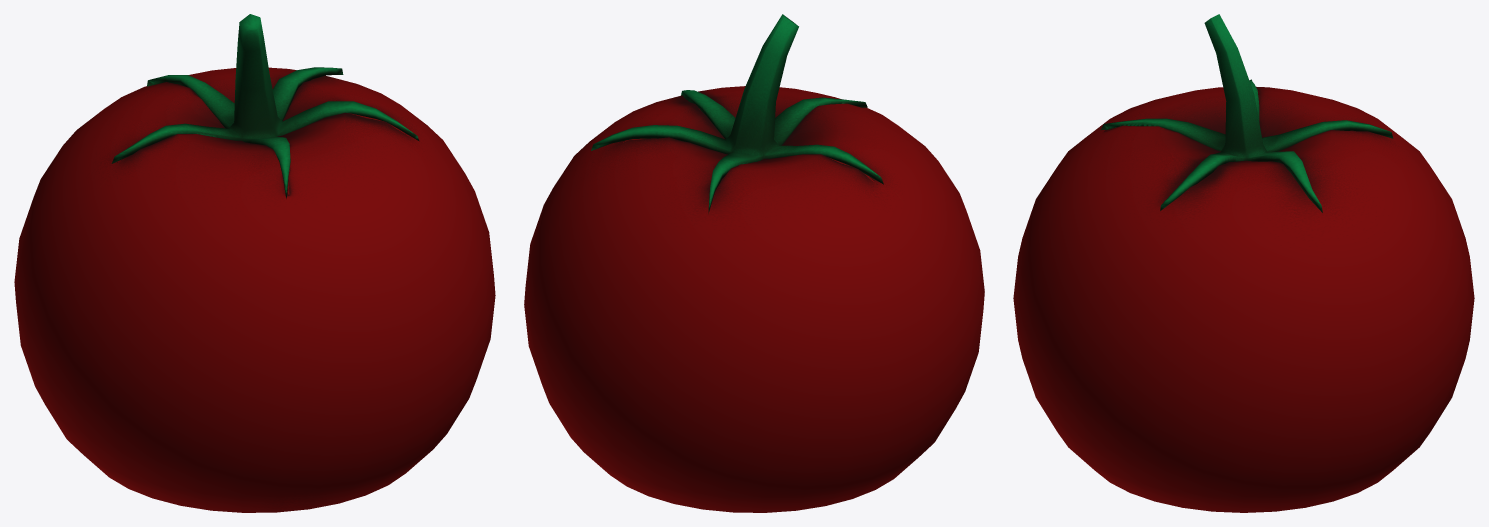
Rendered from Tomato.fbx.
3 renders of one model, left to right at view 1: azimuth 30°, elevation 25°; view 2: azimuth 150°, elevation 25°; view 3: azimuth 270°, elevation 25°, orthographic. The views are drawn at different scales.
Visible parts, largest first — view 1: Basketball_Ball_Skin_Tomato; view 2: Basketball_Ball_Skin_Tomato; view 3: Basketball_Ball_Skin_Tomato.
Part boxes in pixels (x1=…): Basketball_Ball_Skin_Tomato: x1=14, y1=14, x2=495, y2=512; Basketball_Ball_Skin_Tomato: x1=524, y1=14, x2=984, y2=512; Basketball_Ball_Skin_Tomato: x1=1013, y1=14, x2=1474, y2=512.
Bounding box in the file's own units: 0.2402 × 0.2509 × 0.2402.
Materials: 1 (1 with a texture image).
